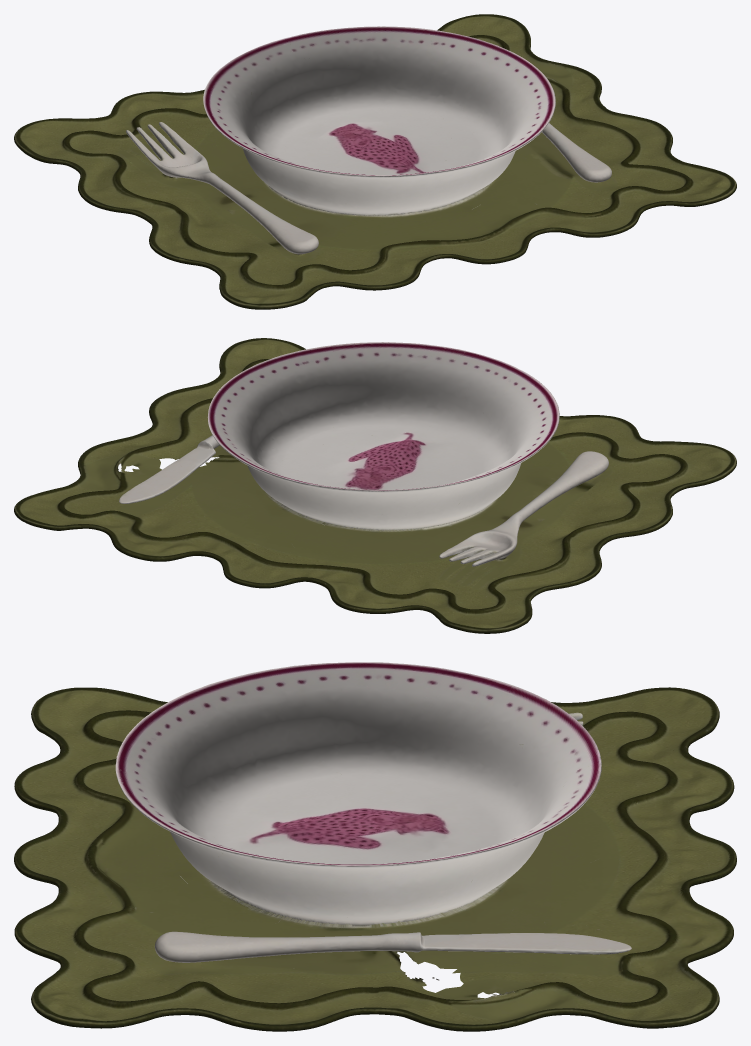
File: design4.glb
3 renders of one model, top to bottom at view 1: azimuth 30°, elevation 25°; view 2: azimuth 150°, elevation 25°; view 3: azimuth 270°, elevation 25°, orthographic. The views are drawn at different scales.
Parts seen in each view (by area): view 1: Mesh_0, Object001; view 2: Mesh_0, Object001; view 3: Mesh_0, Object001.
Boxes of the visible parts, x1,y1,x2,y2 form: Mesh_0: [14, 14, 736, 309]; Object001: [203, 26, 555, 215]; Mesh_0: [14, 338, 736, 633]; Object001: [207, 342, 559, 530]; Mesh_0: [14, 687, 736, 1031]; Object001: [115, 662, 601, 924].
Bounding box in the file's own units: 1.9 × 0.2774 × 1.7.
Materials: 1 (1 with a texture image).
